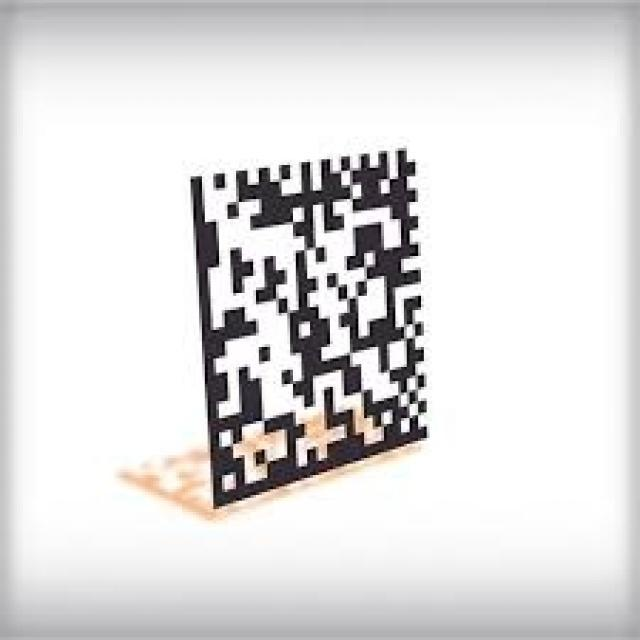Data-Matrix: (179, 131, 438, 520)
